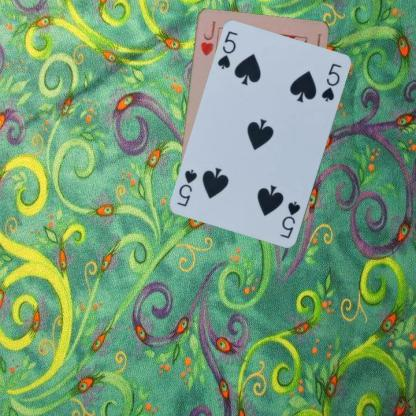5s: (215, 28, 239, 71), (278, 199, 302, 240)
Jh: (198, 18, 216, 57)
